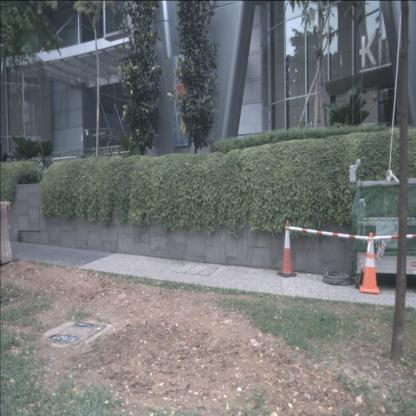movable_object-barrier: (0, 200, 14, 264)
movable_object-trafficcone: (359, 232, 381, 294), (277, 219, 297, 277)
